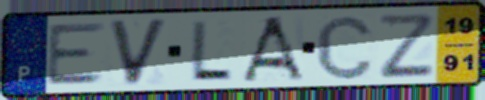A: (238, 15, 307, 83)
C: (314, 12, 376, 82)
E: (44, 20, 109, 88)
L: (186, 19, 236, 83)
V: (106, 16, 171, 89)
Z: (375, 12, 437, 80)
